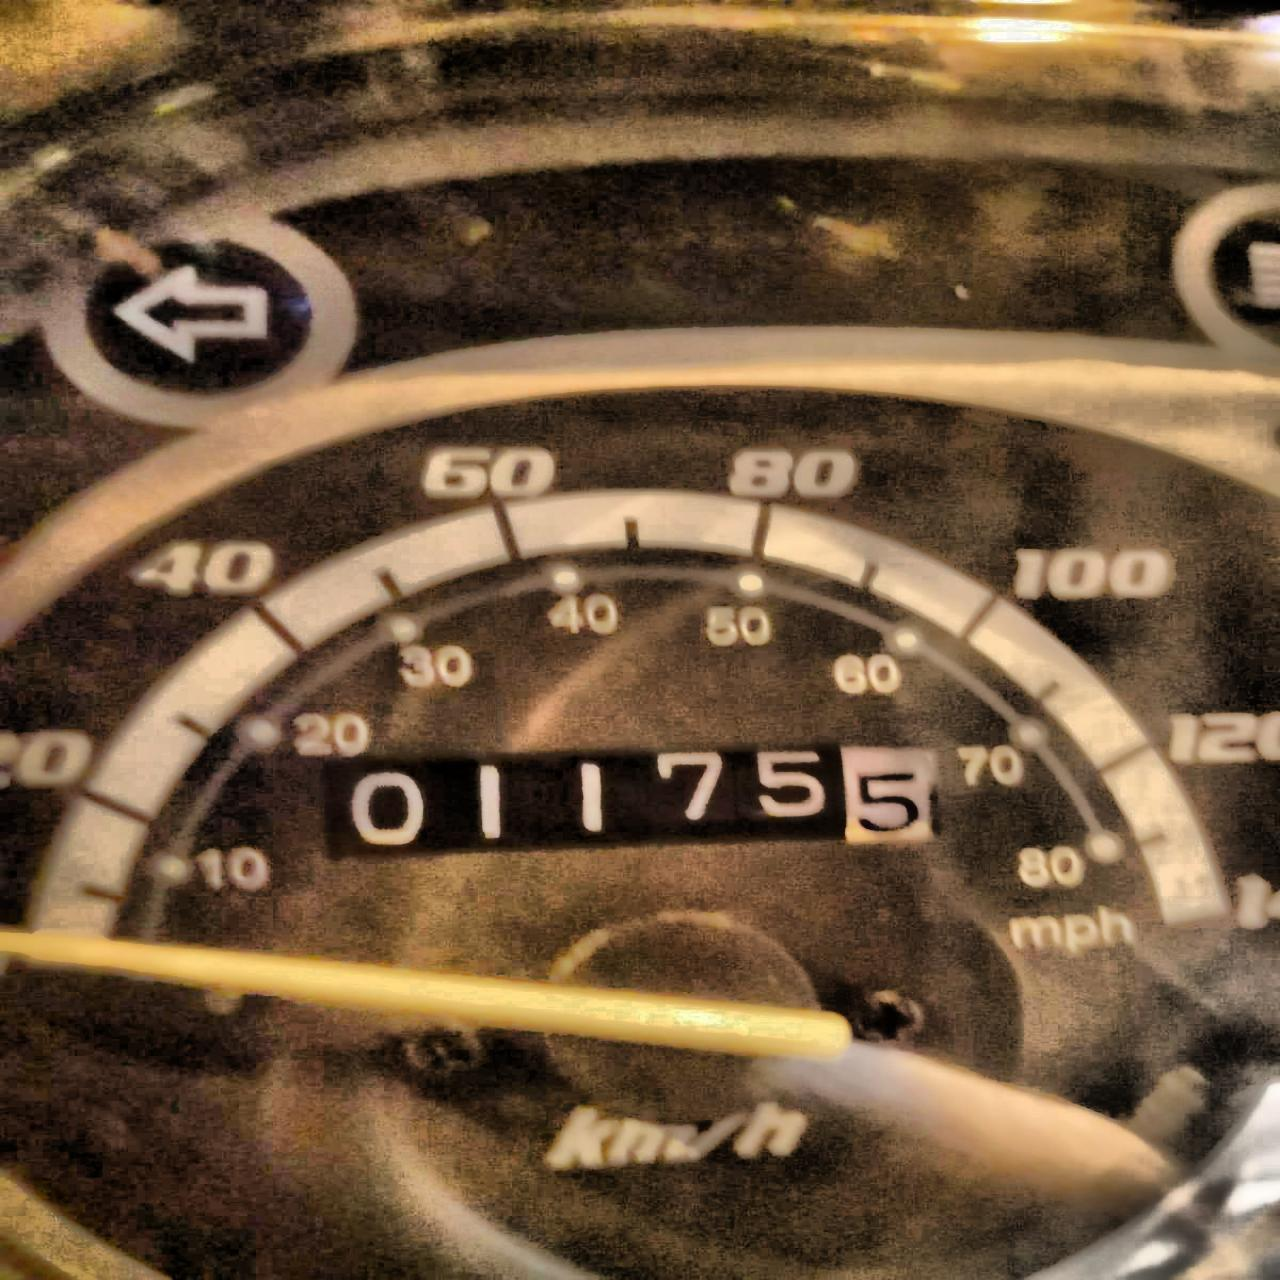0: (348, 767, 435, 845)
1: (471, 757, 511, 847), (570, 760, 614, 835)
5: (754, 745, 832, 822), (852, 764, 926, 838)
7: (654, 749, 731, 821)
odometer: (320, 744, 949, 863)
